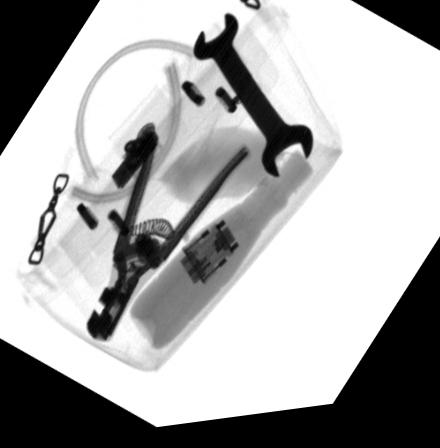Pliers: (83, 124, 250, 342)
Wrench: (187, 19, 312, 185)
